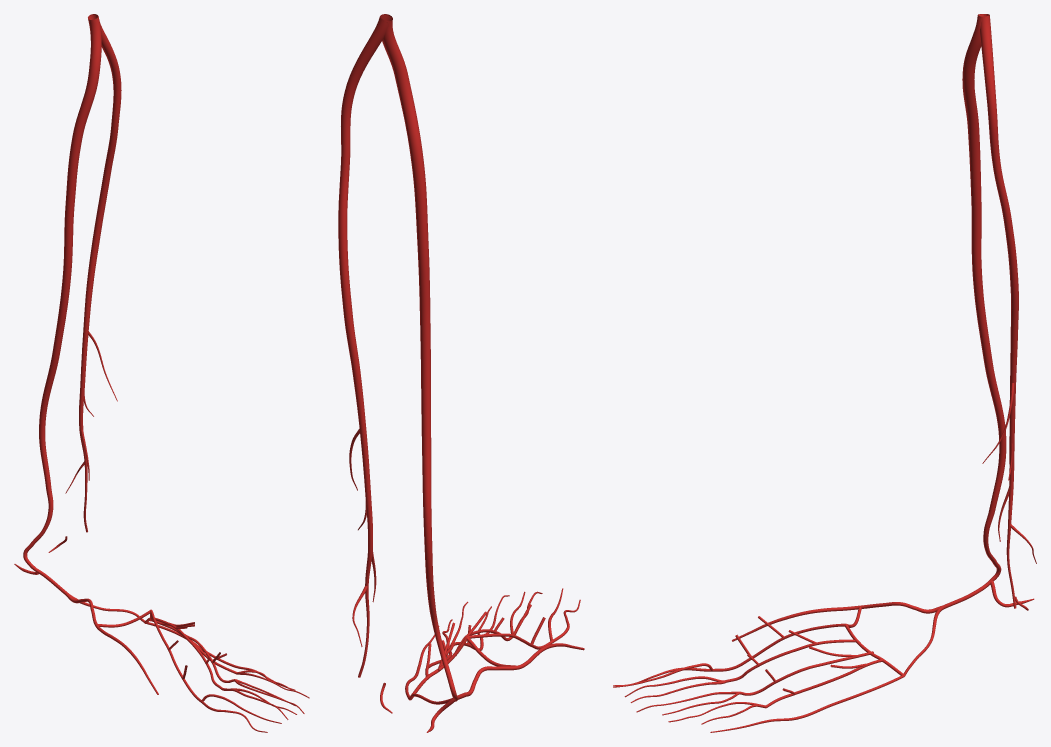
Rendered from circulatorio-posterior-tibial-artery-l.glb.
3 renders of one model, left to right at view 1: azimuth 30°, elevation 25°; view 2: azimuth 150°, elevation 25°; view 3: azimuth 270°, elevation 25°, orthographic. The views are drawn at different scales.
Visible parts, largest first — view 1: Posterior tibial artery.l, Fibular artery.l, Proper plantar digital arteries.l, Plantar metatarsal arteries.l; view 2: Posterior tibial artery.l, Fibular artery.l, Proper plantar digital arteries.l, Perforating branches of plantar metatarsal arteries.l, Plantar metatarsal arteries.l, Plantar arch.l; view 3: Posterior tibial artery.l, Fibular artery.l, Proper plantar digital arteries.l, Plantar metatarsal arteries.l.
Boxes of the visible parts, box(x1,y1,x2,y2) form: Posterior tibial artery.l: box(23, 14, 101, 594); Fibular artery.l: box(65, 14, 121, 532); Proper plantar digital arteries.l: box(146, 622, 309, 732); Plantar metatarsal arteries.l: box(148, 610, 212, 678); Posterior tibial artery.l: box(380, 14, 466, 701); Fibular artery.l: box(338, 15, 392, 677); Proper plantar digital arteries.l: box(405, 588, 580, 699); Perforating branches of plantar metatarsal arteries.l: box(426, 604, 545, 668); Plantar metatarsal arteries.l: box(425, 629, 532, 676); Plantar arch.l: box(409, 636, 515, 699); Posterior tibial artery.l: box(943, 14, 1006, 608); Fibular artery.l: box(978, 14, 1036, 608); Proper plantar digital arteries.l: box(613, 663, 904, 732); Plantar metatarsal arteries.l: box(752, 623, 882, 694).
Bounding box in the file's own units: 0.091 × 0.367 × 0.2086.
